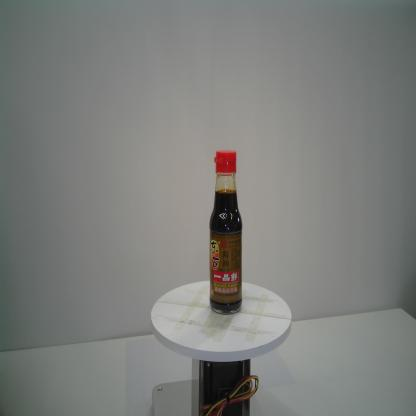Seasoner: (209, 149, 243, 315)
